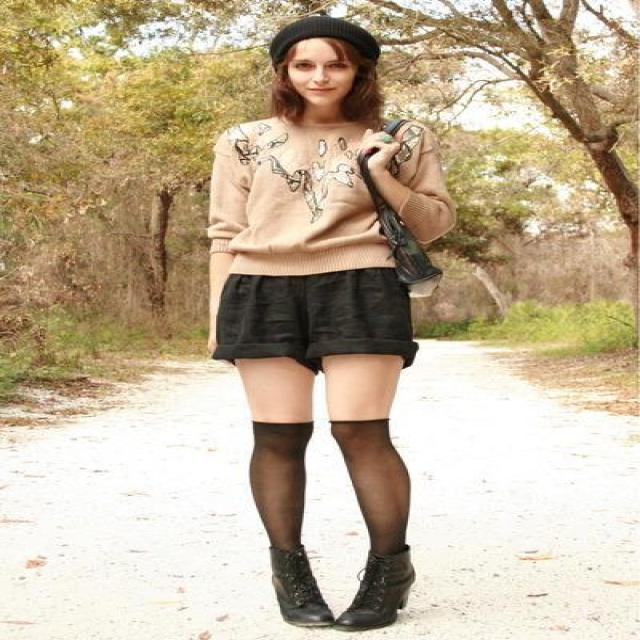bag: (365, 192, 440, 284)
hat: (274, 19, 387, 49)
shirt: (196, 115, 454, 307)
shoe: (272, 552, 414, 632)
shorts: (212, 267, 418, 370)
